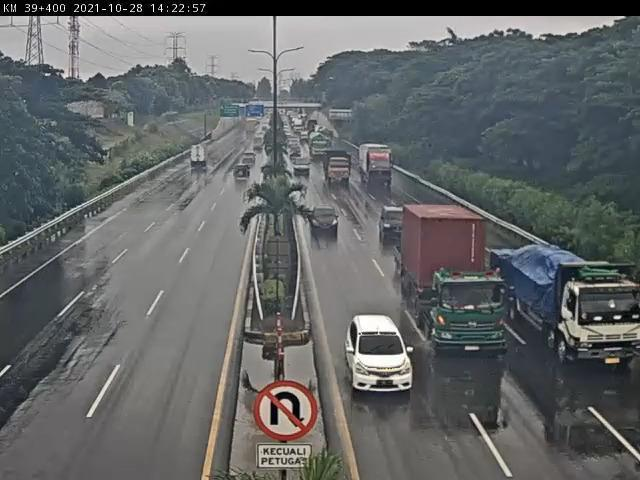truck: (497, 249, 640, 363), (400, 200, 507, 350), (359, 146, 395, 185), (324, 148, 355, 184)
